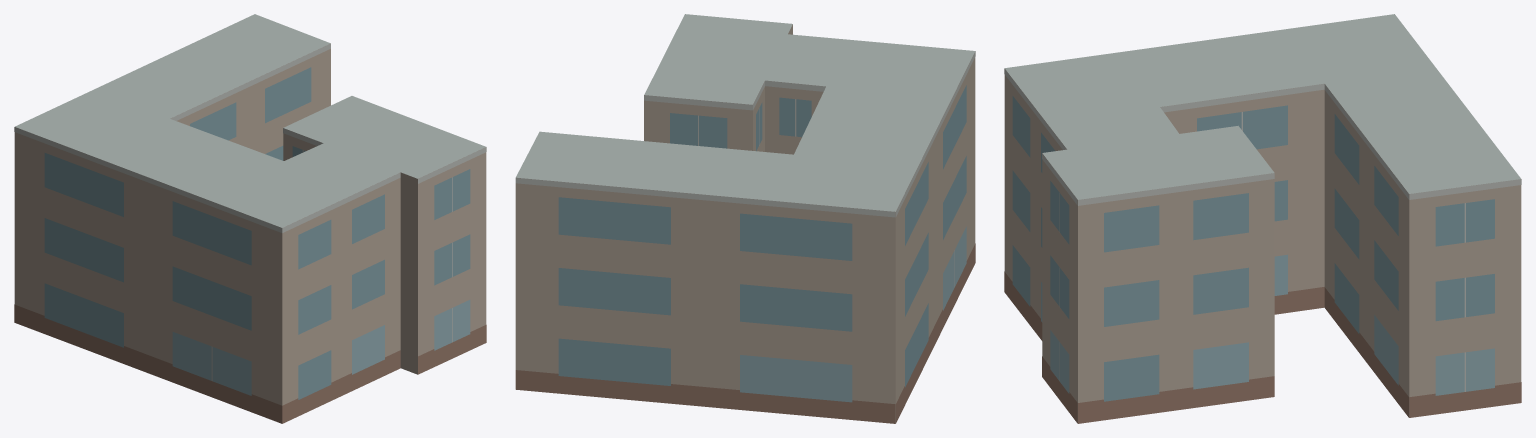
The model's file is survey-upis-33007678.glb.
3 views of the same model, side by side, from view 1: azimuth 30°, elevation 25°; view 2: azimuth 150°, elevation 25°; view 3: azimuth 270°, elevation 25° (orthographic). The views are drawn at different scales.
Parts seen in each view (by area): view 1: survey-upis-33007678.tmp; view 2: survey-upis-33007678.tmp; view 3: survey-upis-33007678.tmp.
Part boxes in pixels (<box>): survey-upis-33007678.tmp: <box>14,14,486,423</box>; survey-upis-33007678.tmp: <box>515,14,975,423</box>; survey-upis-33007678.tmp: <box>1004,14,1521,423</box>.
Size of the model in its own units: 16.31 by 9.15 by 19.16.
